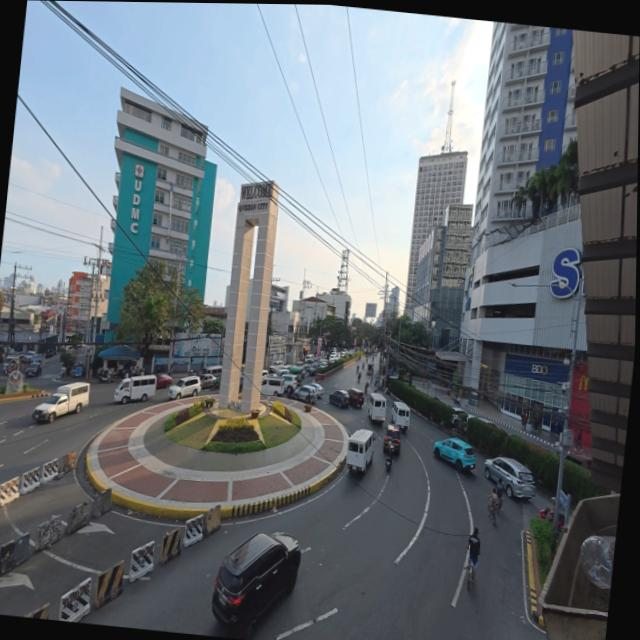car: (209, 524, 304, 637), (483, 454, 541, 501), (431, 433, 482, 473), (170, 371, 203, 399), (329, 384, 364, 408)
vans: (32, 379, 90, 428)
